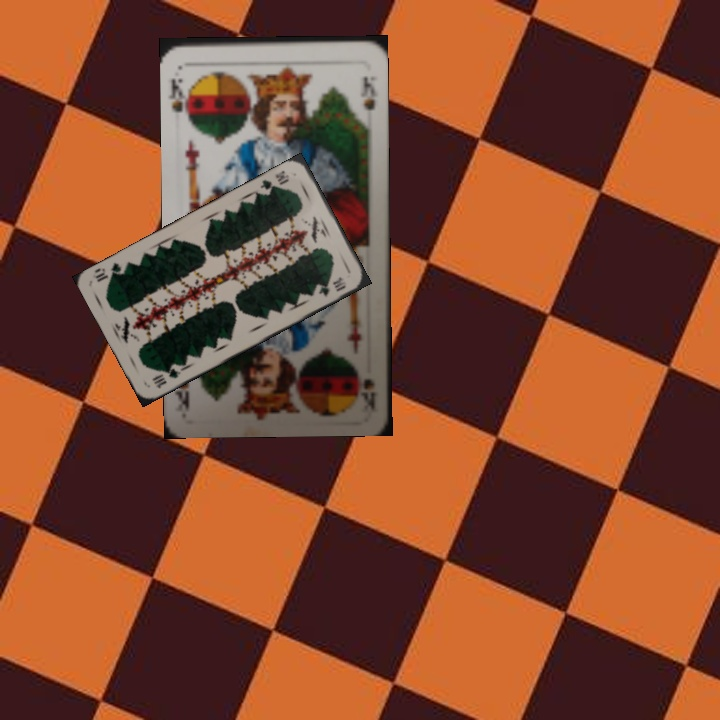G10: (256, 166, 292, 195), (148, 364, 186, 391)
SK: (167, 74, 194, 121), (356, 374, 378, 410)
